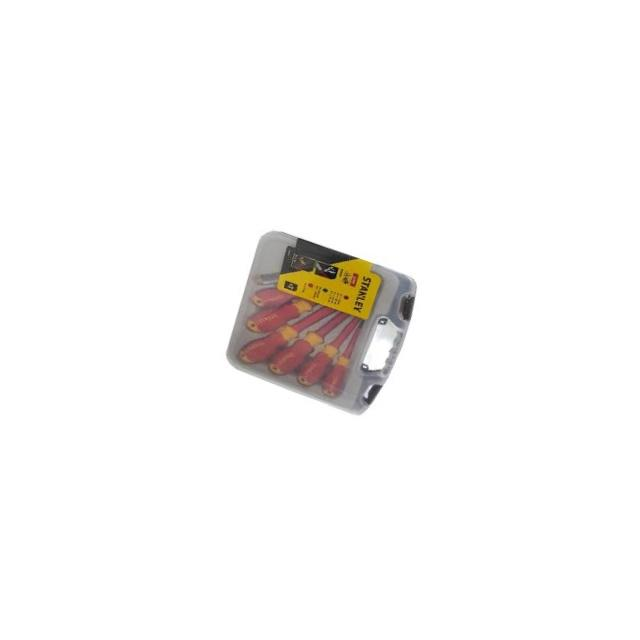screwdriver: (316, 312, 368, 400)
